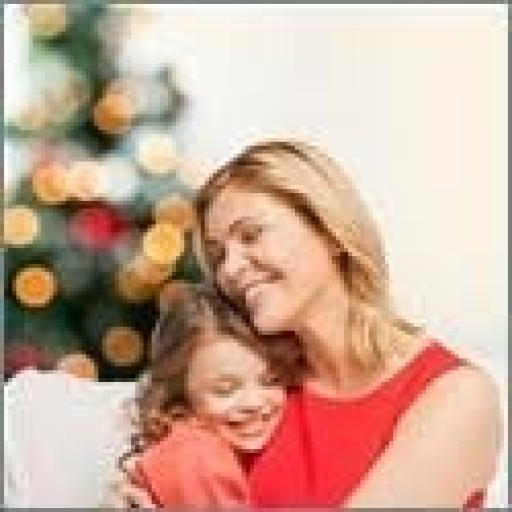hugging: (106, 134, 504, 508), (111, 280, 299, 508)
